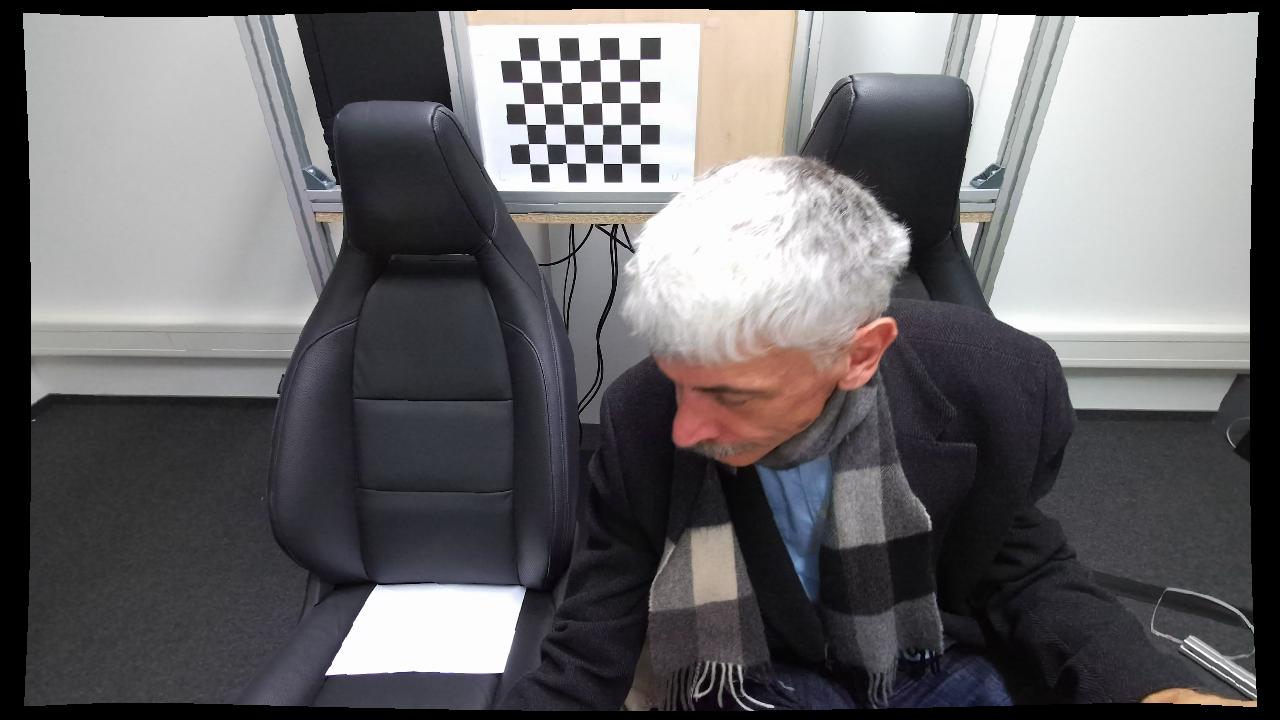Distracted: (498, 146, 1087, 712)
